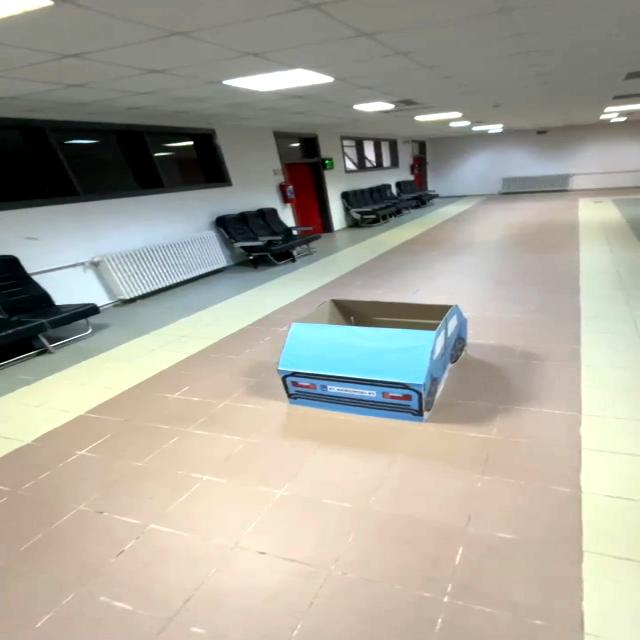blue_car: (270, 290, 481, 427)
